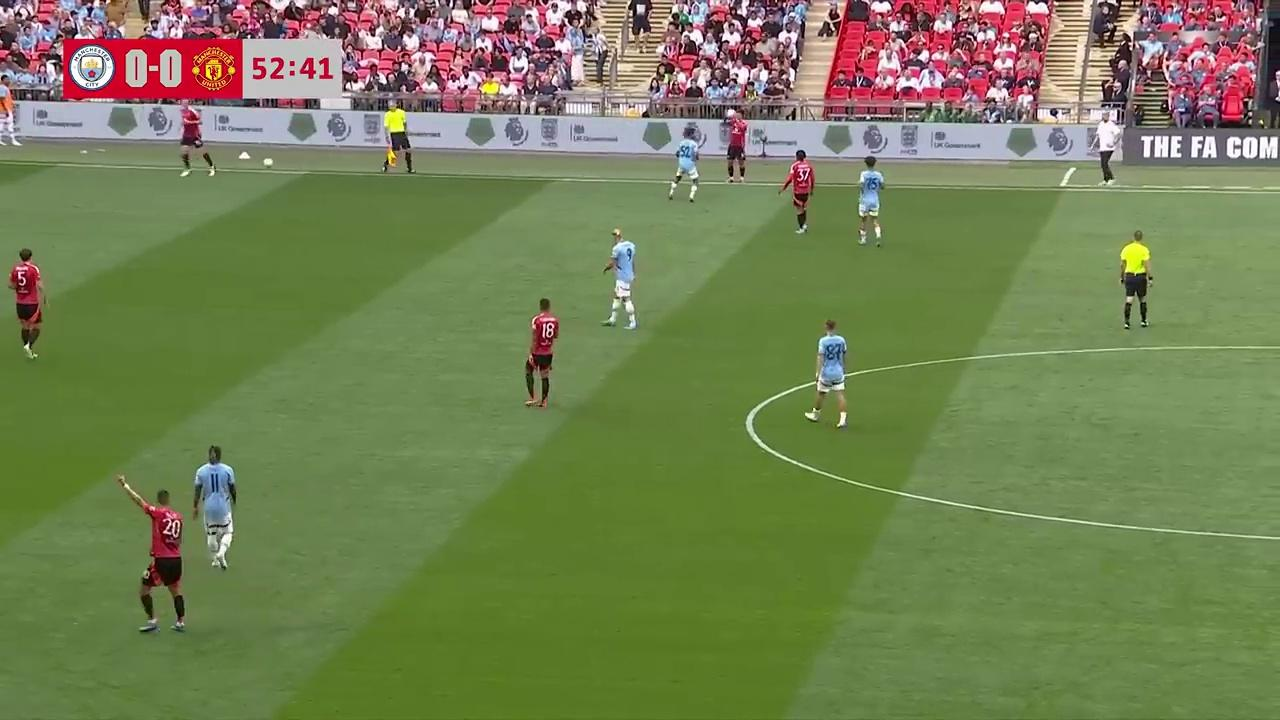ball: (724, 104, 740, 121)
player: (126, 486, 186, 635), (193, 444, 237, 570), (805, 319, 849, 429), (7, 248, 48, 359), (524, 298, 559, 409), (602, 228, 639, 330), (176, 98, 215, 177), (779, 149, 815, 233), (856, 160, 885, 247), (667, 127, 700, 202), (724, 115, 749, 184)
referee: (1119, 235, 1154, 330), (382, 101, 413, 175)
